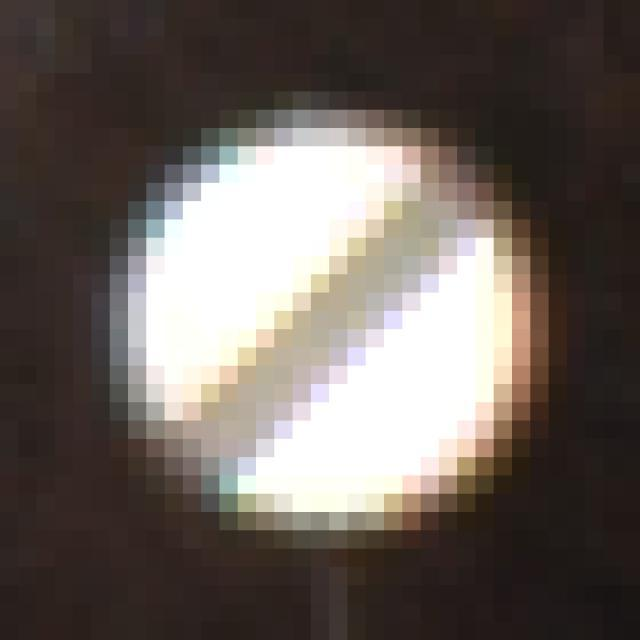restriction ends: (86, 96, 580, 549)
